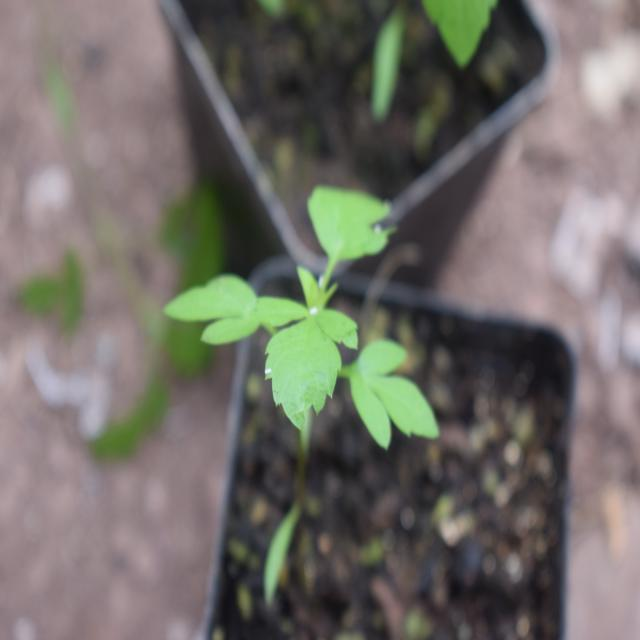Bidens pilosa: (168, 178, 443, 470)
